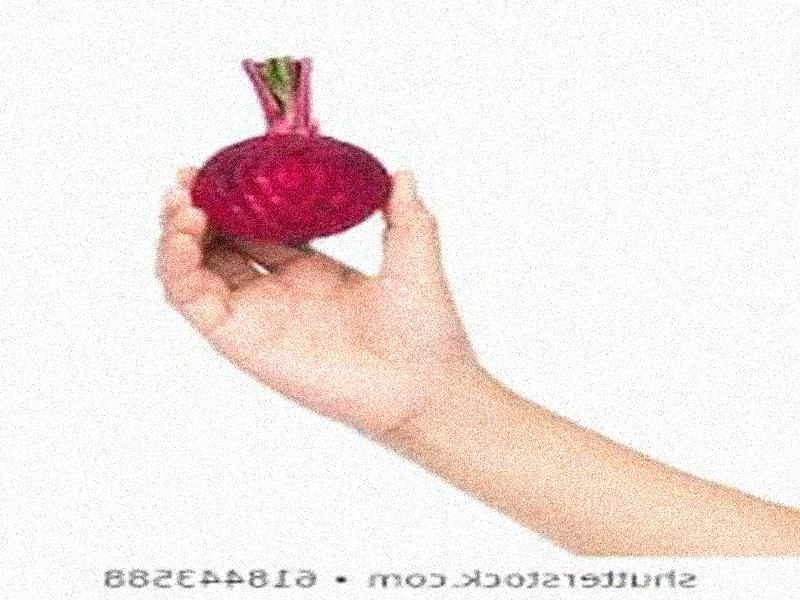Beet: (186, 56, 389, 239)
